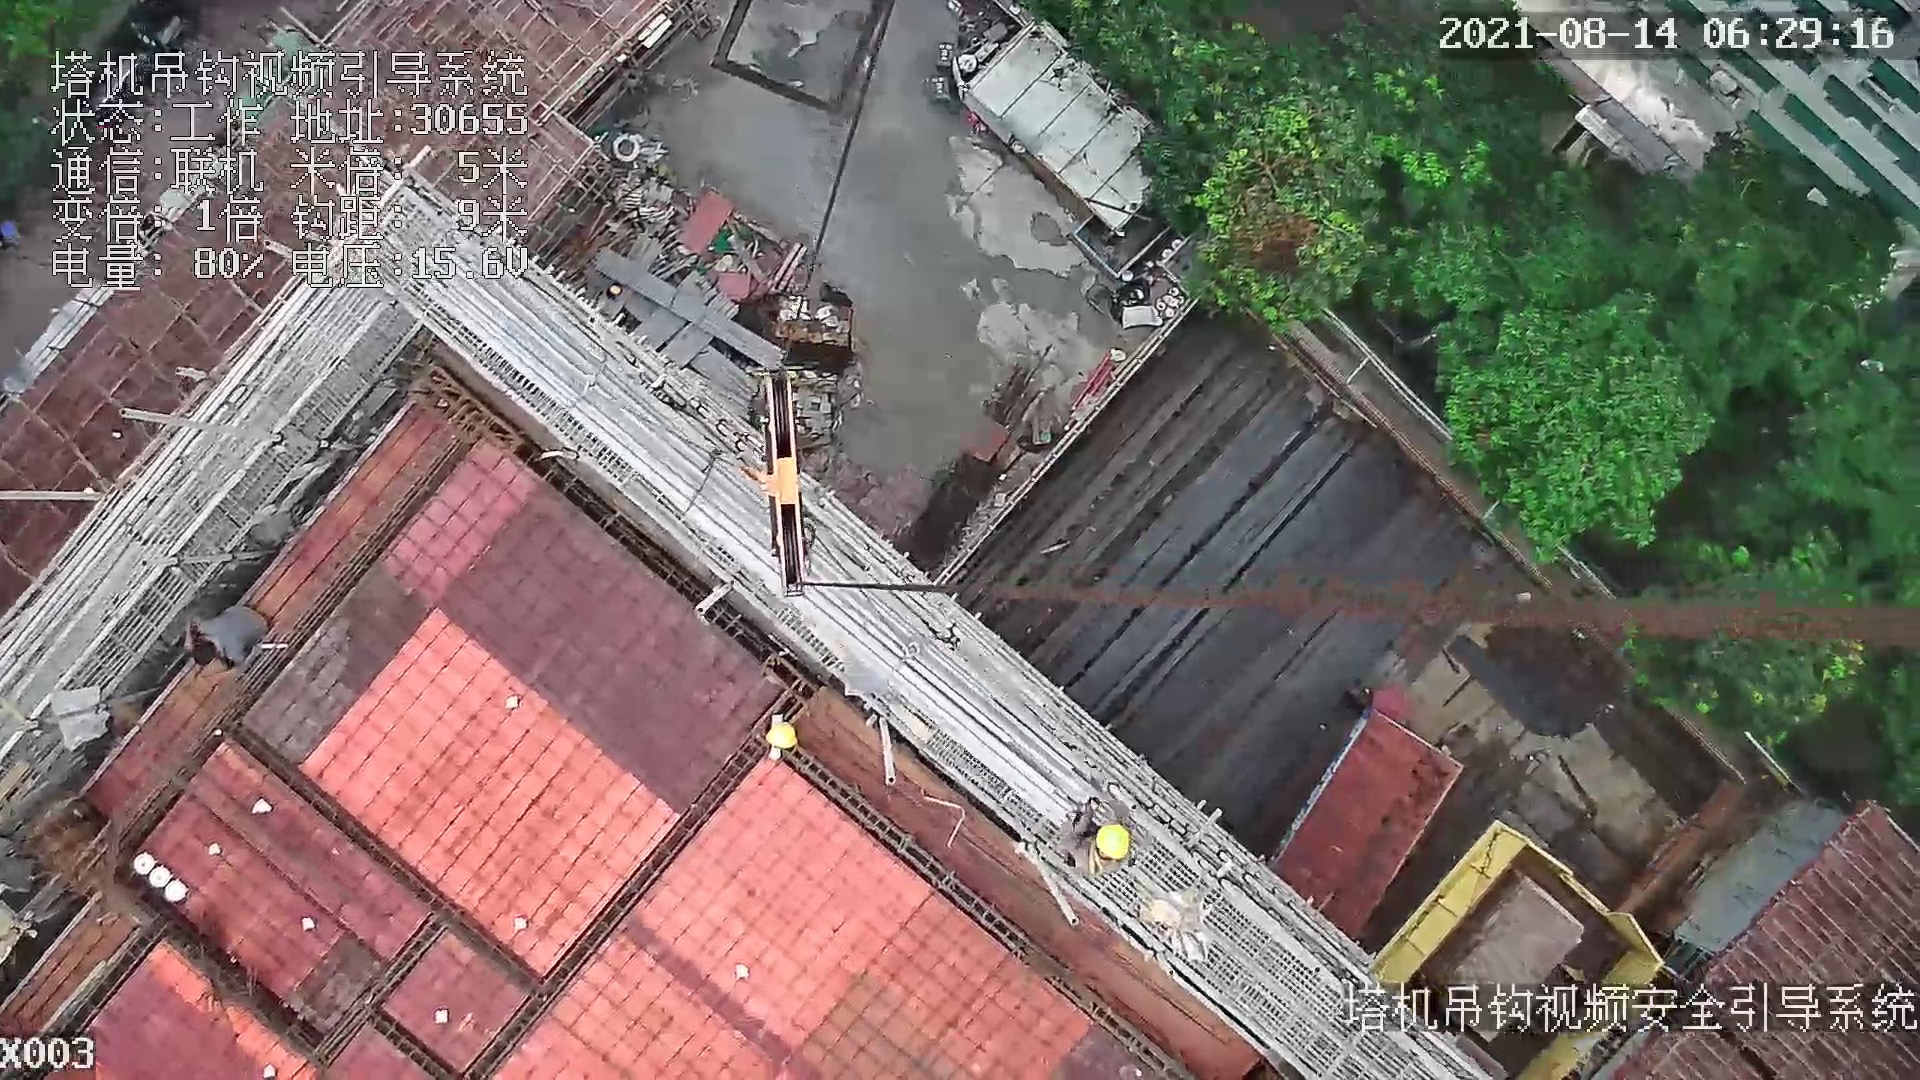helmet: (1097, 819, 1130, 863), (762, 718, 801, 752)
hook: (747, 363, 809, 600)
person: (1055, 787, 1137, 881)
rebar: (874, 332, 1458, 758)
